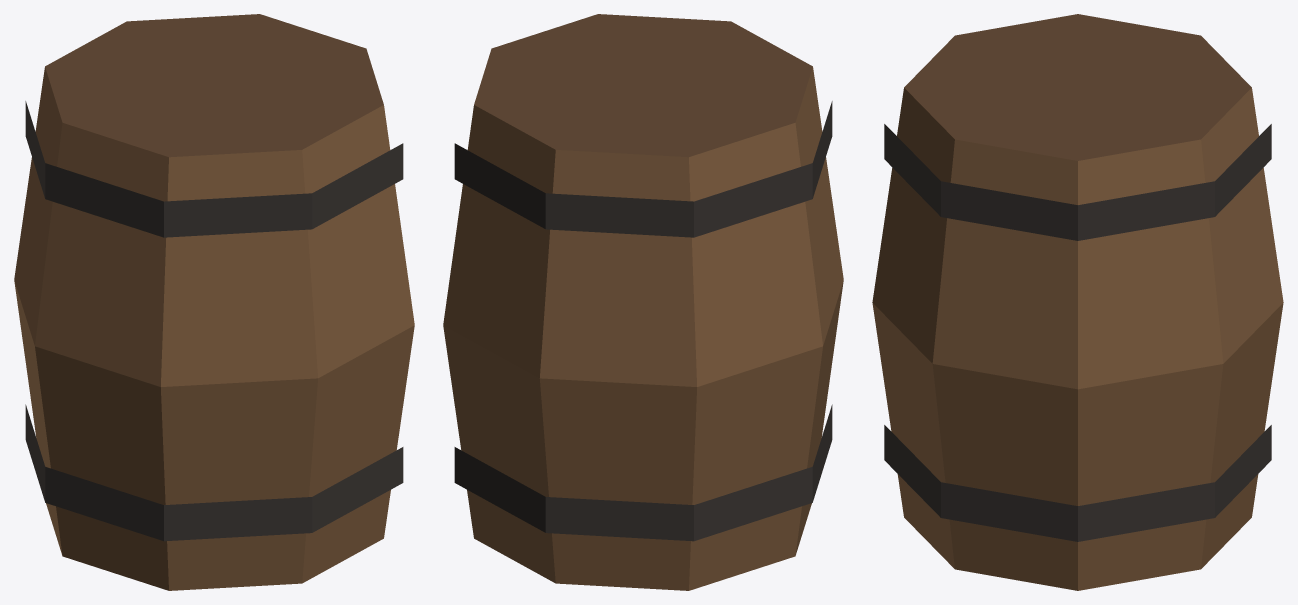
Rendered from barrel.glb.
The picture shows the model from 3 angles, left to right: view 1: azimuth 30°, elevation 25°; view 2: azimuth 150°, elevation 25°; view 3: azimuth 270°, elevation 25°; orthographic projection.
Parts seen in each view (by area): view 1: barrel; view 2: barrel; view 3: barrel.
Part boxes in pixels (left/top/right/bottom): barrel: left=14, top=14, right=414, bottom=590; barrel: left=443, top=14, right=843, bottom=590; barrel: left=872, top=14, right=1283, bottom=590.
Bounding box in the file's own units: 0.52 × 0.6 × 0.52.
